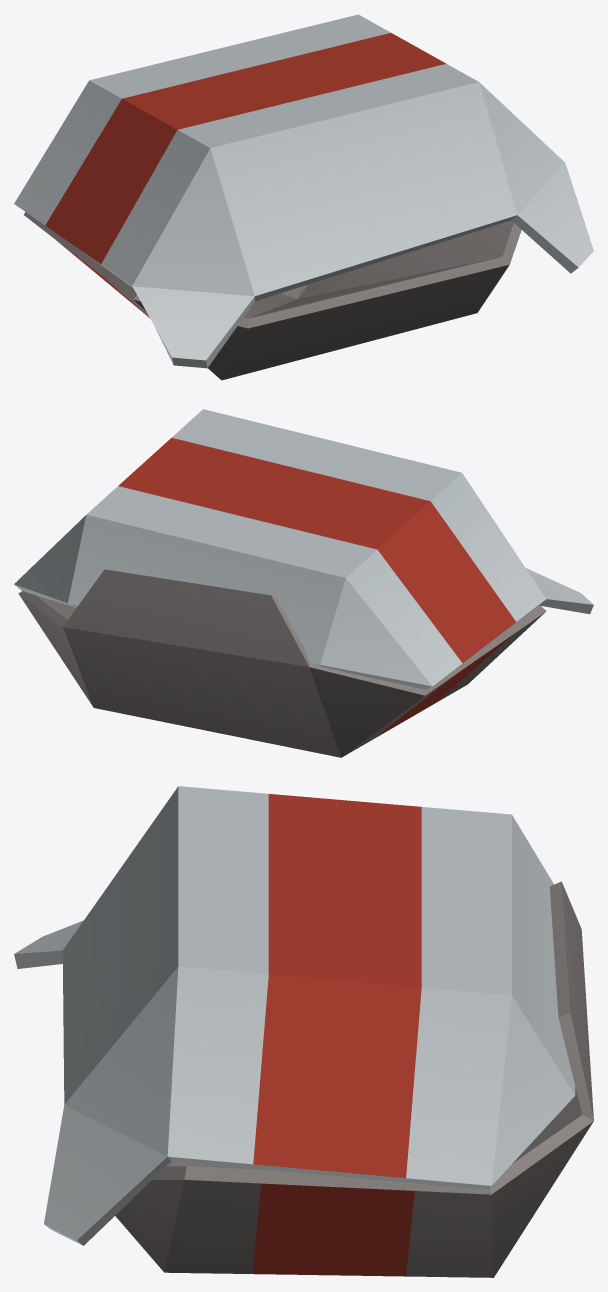
Rendered from Trash_001.glb.
3 views of the same model, one above another, from view 1: azimuth 30°, elevation 25°; view 2: azimuth 150°, elevation 25°; view 3: azimuth 270°, elevation 25° (orthographic). The views are drawn at different scales.
Parts seen in each view (by area): view 1: Trash_001; view 2: Trash_001; view 3: Trash_001.
Part boxes in pixels (<box>): Trash_001: <box>14,14,593,380</box>; Trash_001: <box>14,409,593,757</box>; Trash_001: <box>14,786,593,1277</box>.
Size of the model in its own units: 0.1718 by 0.0849 by 0.1425.
Materials: 1 (1 with a texture image).
